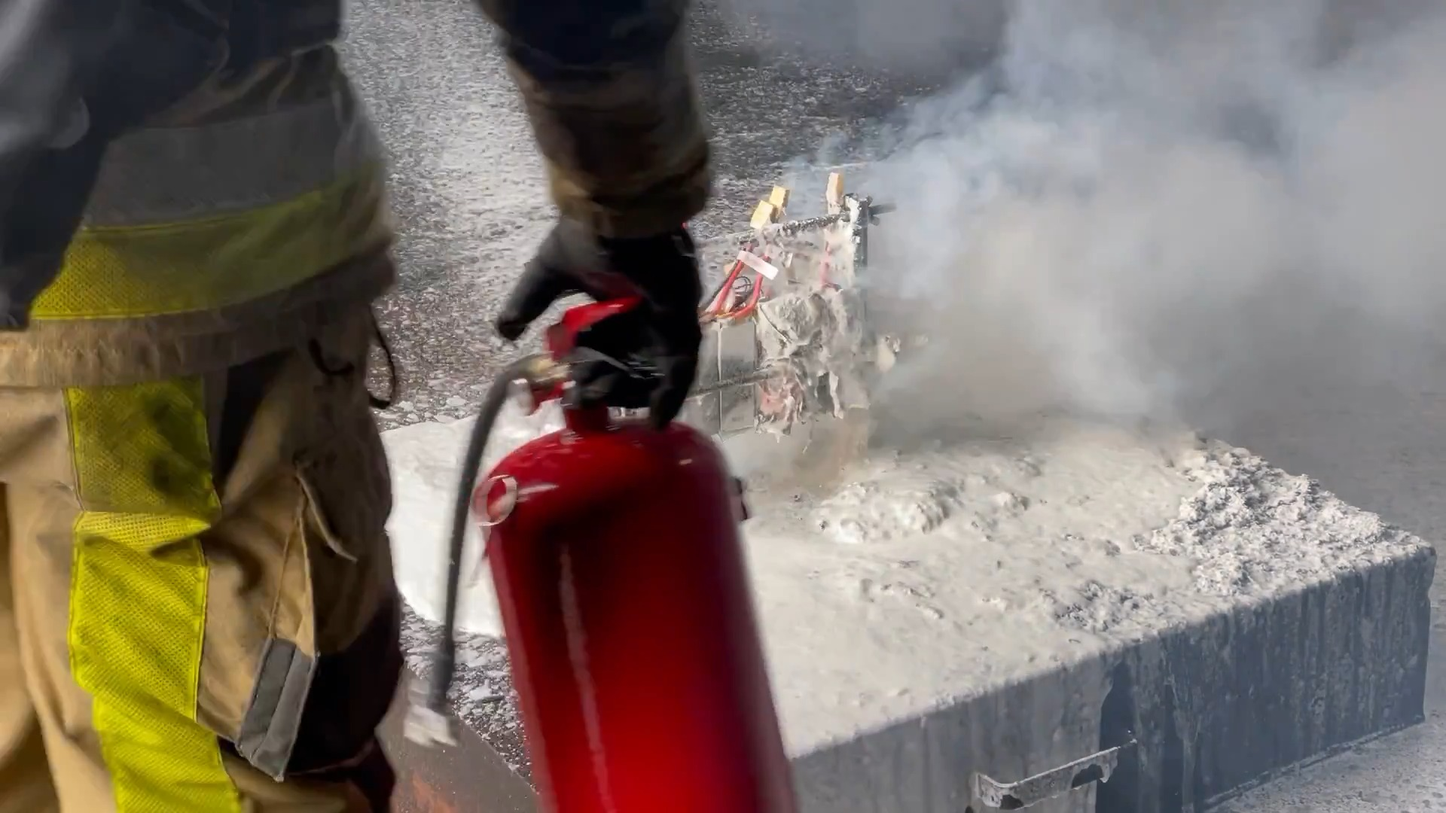smoke: (794, 0, 1446, 467)
